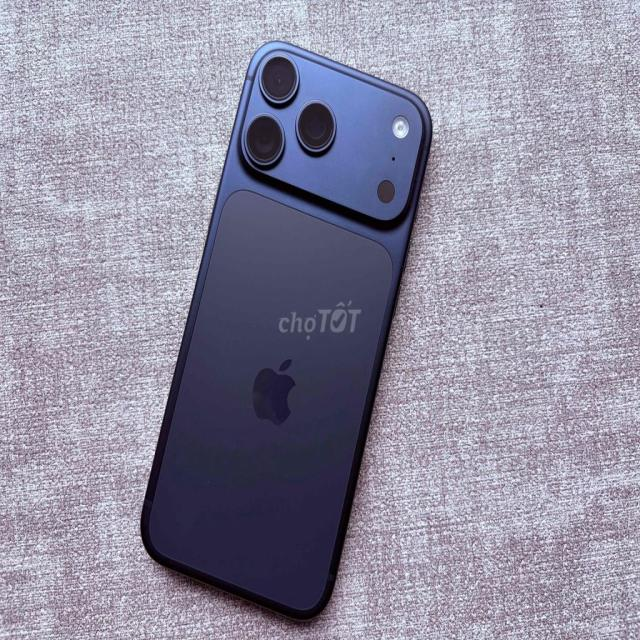gen_17: (142, 42, 442, 632)
